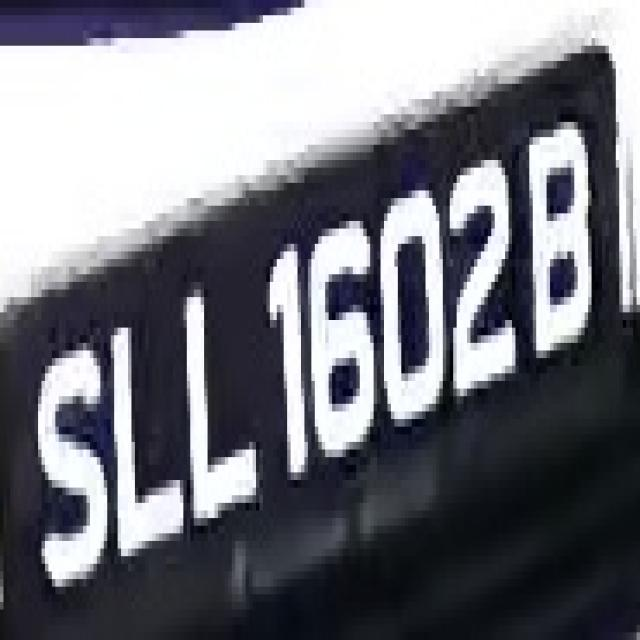0: (370, 145, 450, 457)
1: (260, 228, 318, 511)
2: (436, 130, 526, 426)
6: (304, 198, 380, 503)
B: (519, 114, 598, 381)
L: (169, 266, 263, 526), (104, 289, 190, 572)
S: (31, 297, 100, 610)
